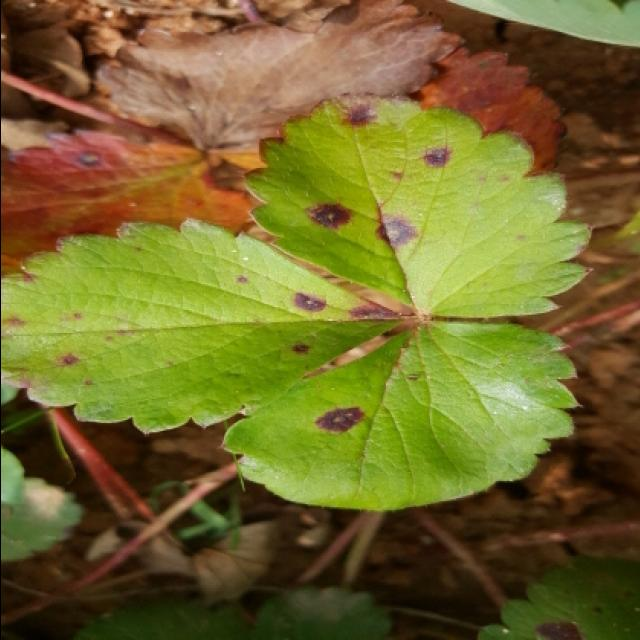Leaf Spot: (2, 216, 412, 436), (242, 91, 593, 319), (216, 317, 584, 512), (2, 128, 275, 270), (477, 555, 640, 640)
